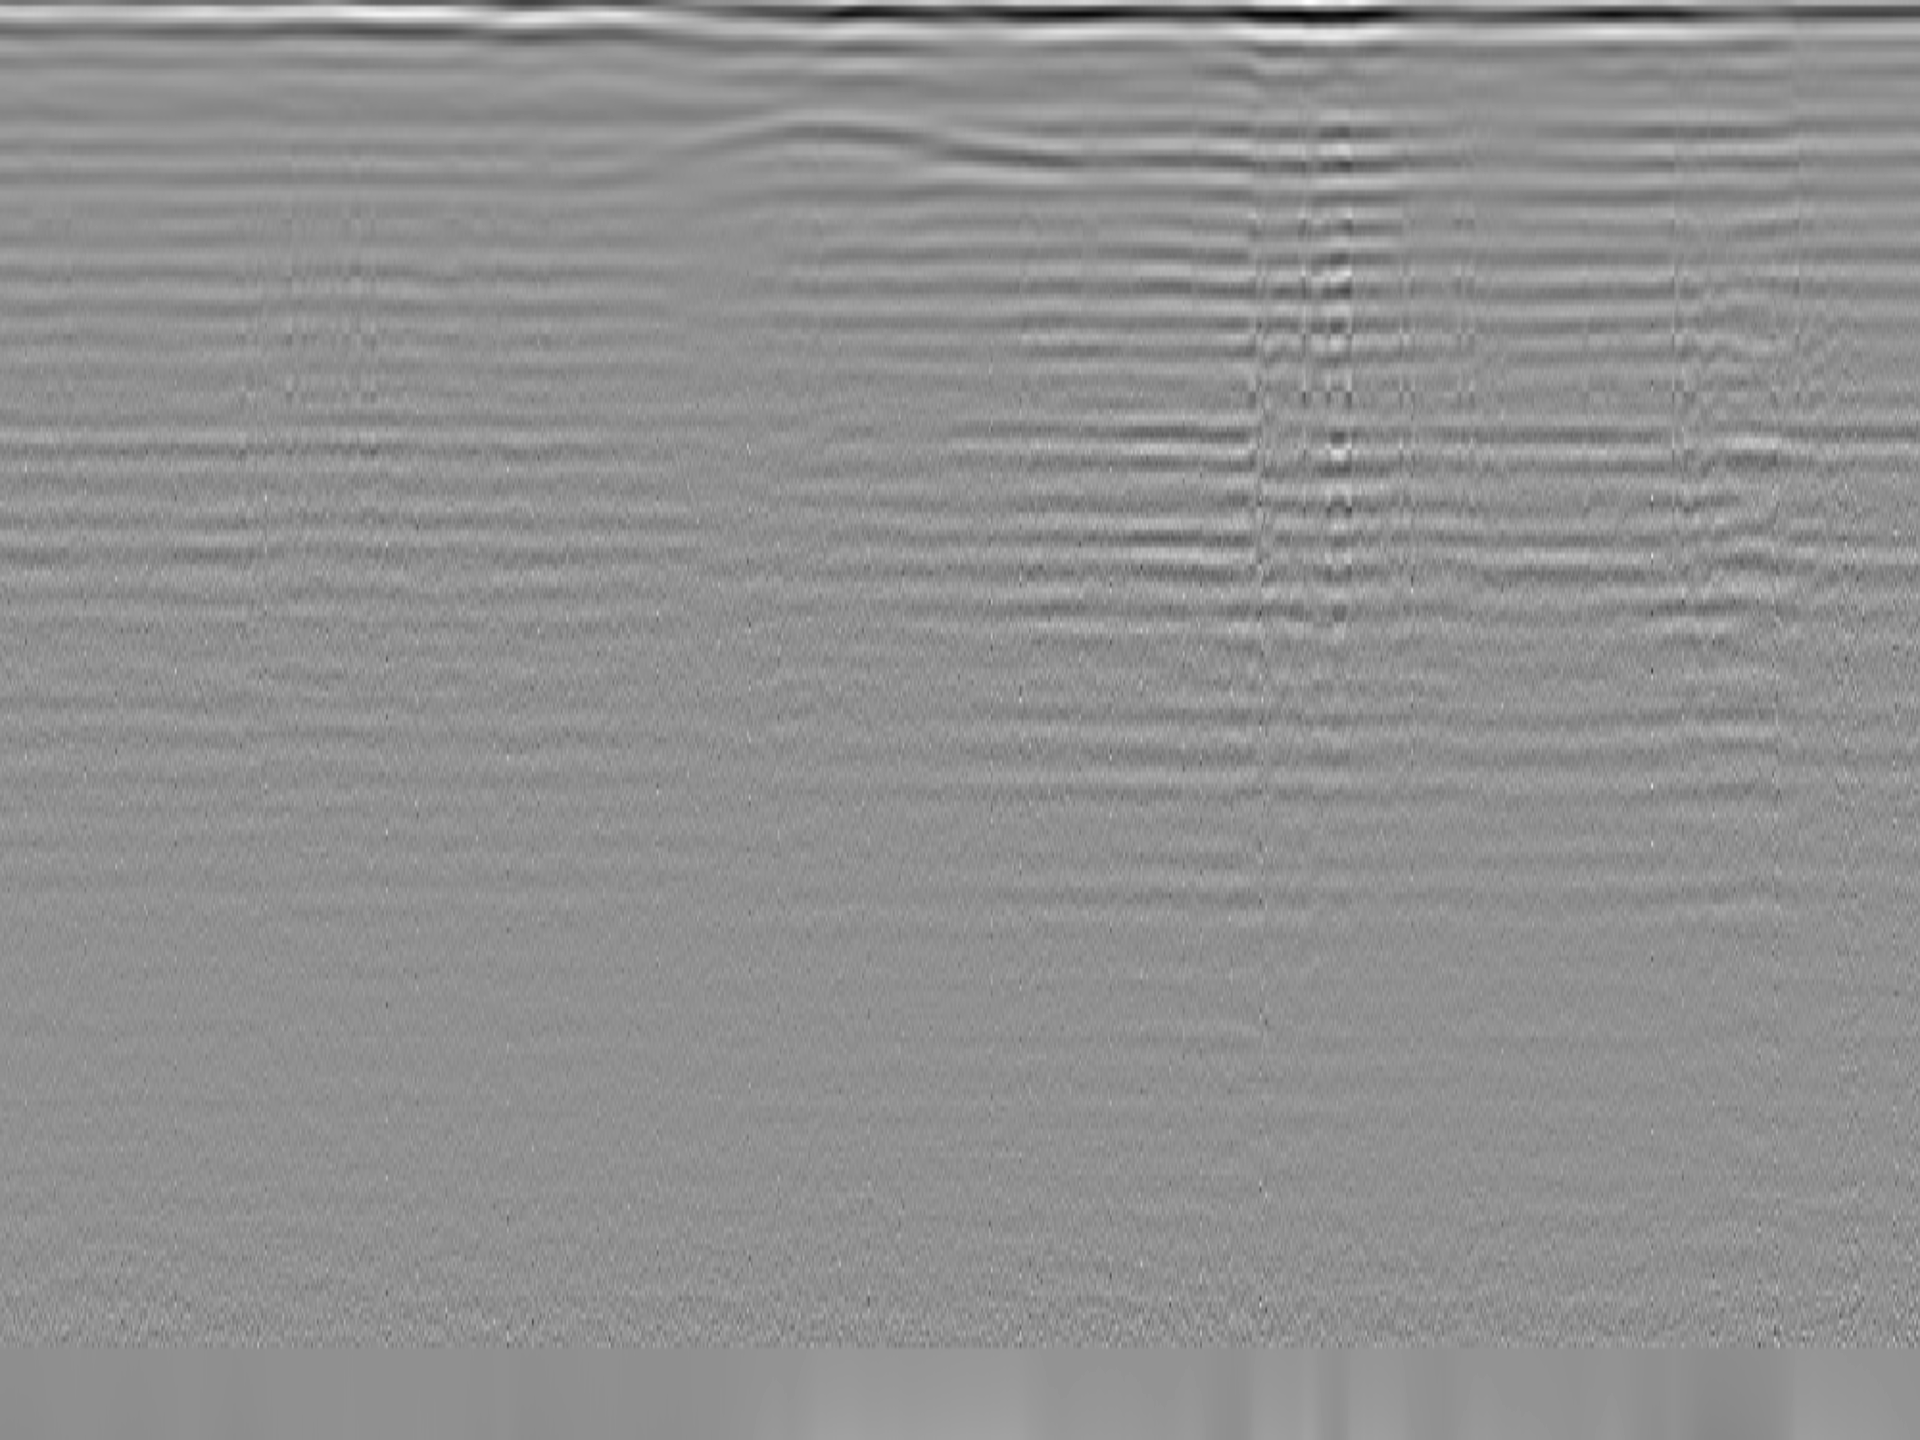Tunnel: (659, 112, 1092, 175)
